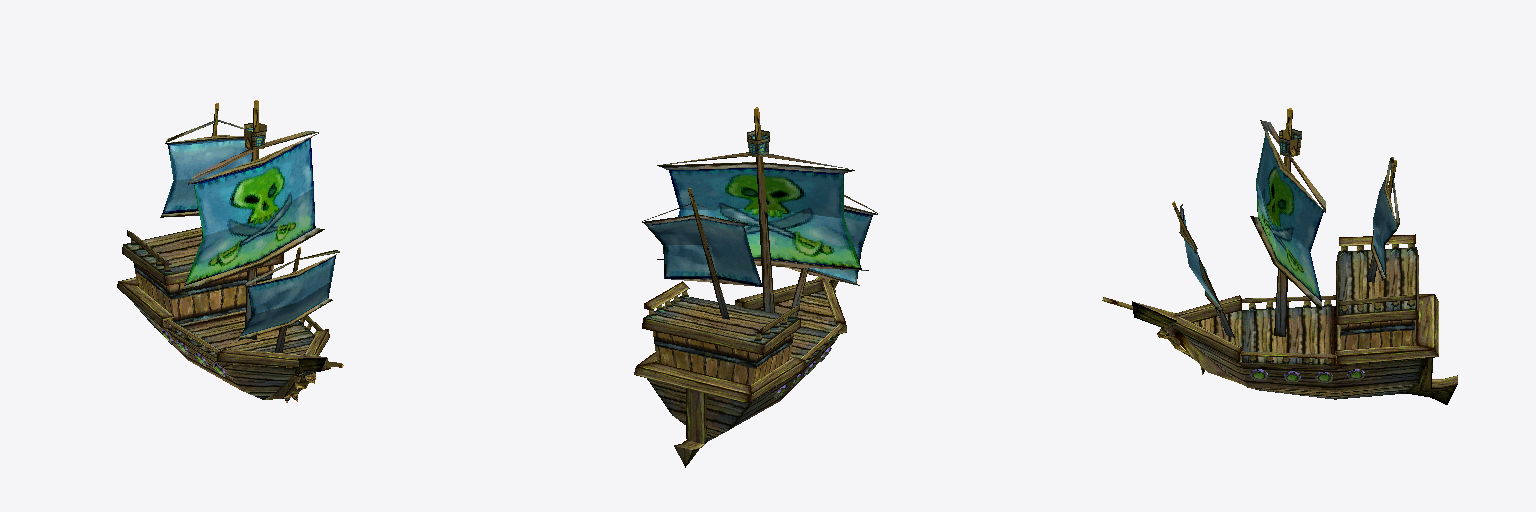
3 renders of one model, left to right at view 1: azimuth 30°, elevation 25°; view 2: azimuth 150°, elevation 25°; view 3: azimuth 270°, elevation 25°, orthographic.
Parts seen in each view (by area): view 1: Mesh_0007.rip, Mesh_0005.rip, Mesh_0003.rip; view 2: Mesh_0005.rip, Mesh_0007.rip, Mesh_0003.rip; view 3: Mesh_0005.rip, Mesh_0007.rip, Mesh_0003.rip.
Part boxes in pixels (bbox=[...]): Mesh_0007.rip: bbox=[160, 138, 335, 376]; Mesh_0005.rip: bbox=[117, 108, 339, 399]; Mesh_0003.rip: bbox=[131, 100, 343, 402]; Mesh_0005.rip: bbox=[634, 116, 877, 467]; Mesh_0007.rip: bbox=[646, 168, 872, 465]; Mesh_0003.rip: bbox=[649, 107, 835, 384]; Mesh_0005.rip: bbox=[1132, 113, 1457, 399]; Mesh_0007.rip: bbox=[1132, 134, 1456, 404]; Mesh_0003.rip: bbox=[1102, 108, 1414, 374].
Bounding box in the file's own units: 37.3 × 58.81 × 63.15.
Materials: 3 (3 with a texture image).